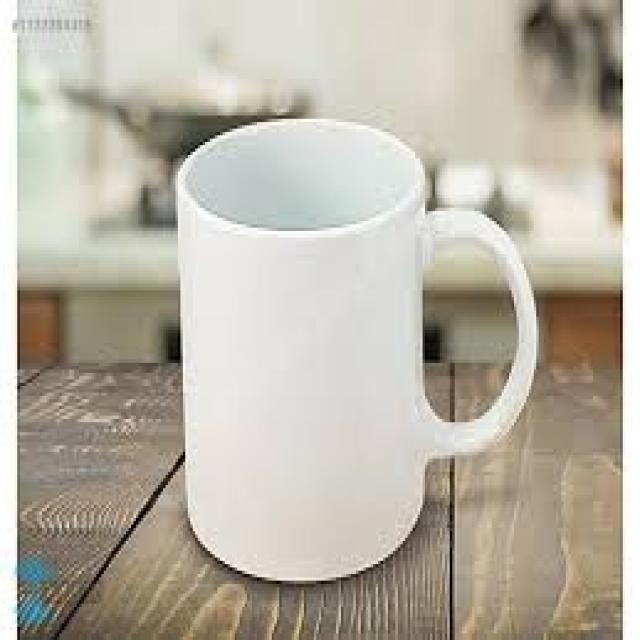taza: (176, 120, 538, 582)
